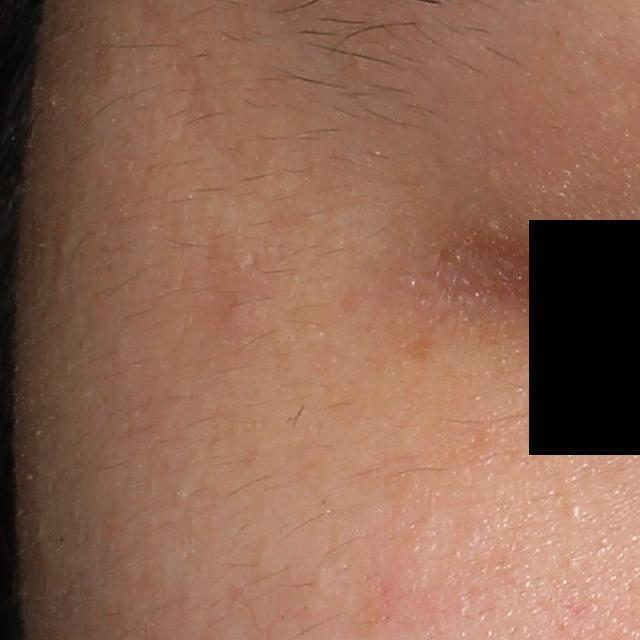comedo: (561, 498, 586, 525)
melasma: (401, 332, 434, 369)
